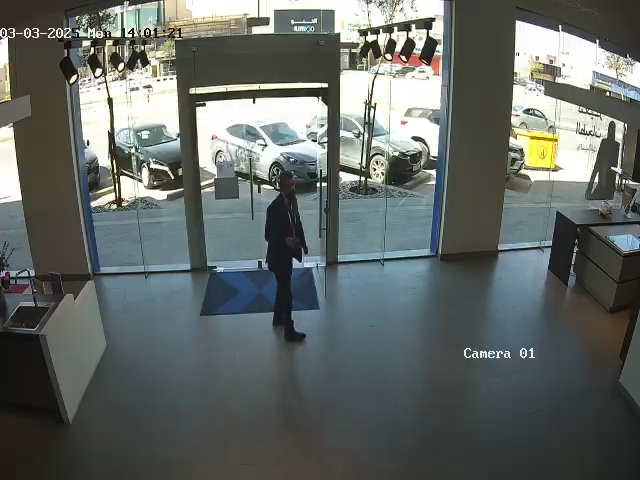employee: (264, 171, 309, 343)
other: (581, 104, 626, 208)
